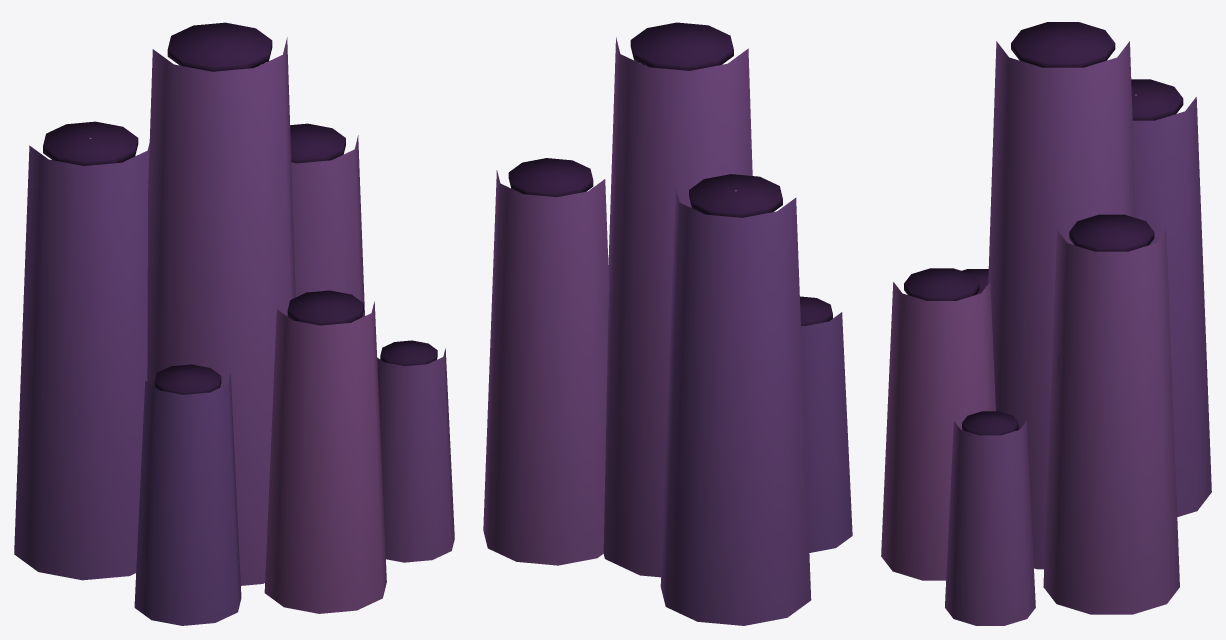
File: tube_sponge.glb
3 renders of one model, left to right at view 1: azimuth 30°, elevation 25°; view 2: azimuth 150°, elevation 25°; view 3: azimuth 270°, elevation 25°, orthographic. The views are drawn at different scales.
Parts seen in each view (by area): view 1: tube_sponge; view 2: tube_sponge; view 3: tube_sponge.
Boxes of the visible parts, x1,y1,x2,y2 form: tube_sponge: [14, 22, 454, 625]; tube_sponge: [483, 22, 852, 625]; tube_sponge: [881, 22, 1211, 625].
Size of the model in its own units: 0.6402 by 0.9051 by 0.545.
